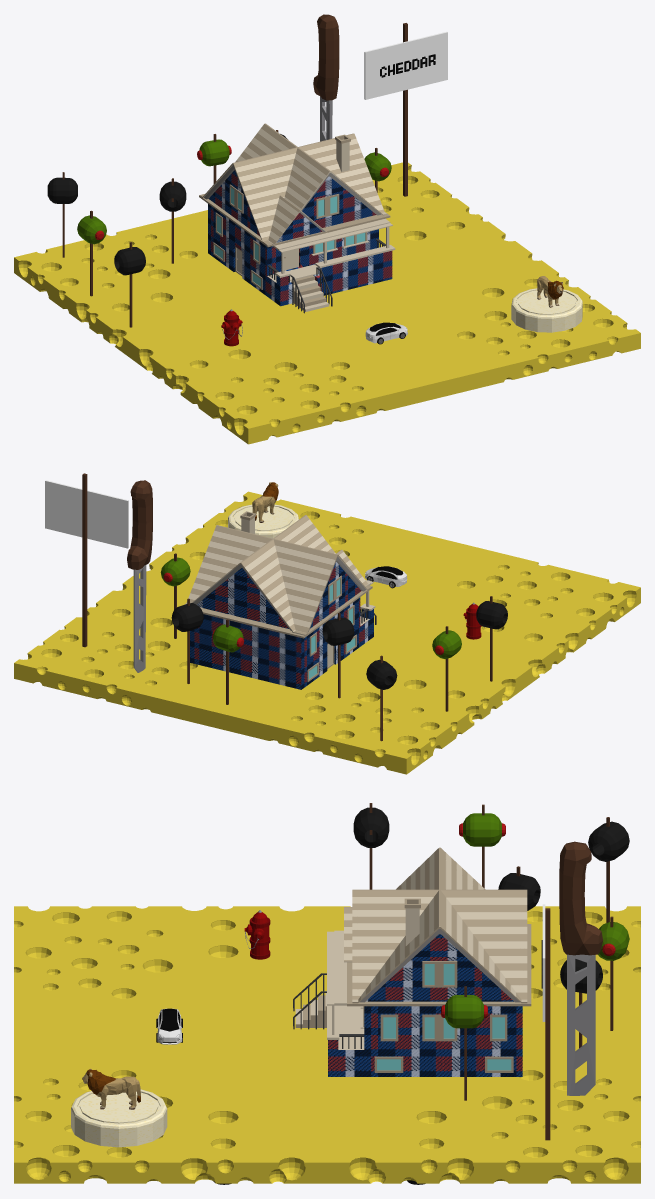
3 renders of one model, top to bottom at view 1: azimuth 30°, elevation 25°; view 2: azimuth 150°, elevation 25°; view 3: azimuth 270°, elevation 25°, orthographic. The views are drawn at different scales.
Parts seen in each view (by area): view 1: Cube.022, Cube.171, Cube.023, Cylinder.016, Cube.024, Sphere.017, Sphere.016, Sphere.020, Sphere.018, Sphere.022, VEHICLES_TESLA, Sphere.019; view 2: Cube.022, Cube.171, Cube.023, Cube.024, Cylinder.016, Sphere.017, Sphere.020, Sphere.021, Sphere.016, Sphere.018, Sphere.022, Sphere.019 (+3 smaller); view 3: Cube.022, Cube.171, Cube.024, Cylinder.016, Cube.023, Sphere.019, Sphere.016, Sphere.018, Sphere.017, ANIMAL_LEON, Sphere.022, OBJRANDOM_FIRE_HYDRANT (+3 smaller).
Boxes of the visible parts, x1,y1,x2,y2 form: Cube.022: (14, 162, 640, 444); Cube.171: (199, 123, 395, 313); Cube.023: (364, 23, 447, 196); Cylinder.016: (511, 288, 582, 332); Cube.024: (313, 14, 339, 141); Sphere.017: (114, 242, 145, 327); Sphere.016: (47, 172, 77, 257); Sphere.020: (159, 178, 186, 263); Sphere.018: (77, 210, 106, 296); Sphere.022: (197, 134, 231, 183); VEHICLES_TESLA: (365, 322, 407, 344); Sphere.019: (364, 148, 391, 192); Cube.022: (14, 491, 640, 774); Cube.171: (184, 511, 376, 689); Cube.023: (45, 473, 128, 647); Cube.024: (127, 480, 152, 672); Cylinder.016: (228, 504, 298, 538); Sphere.017: (476, 596, 507, 681); Sphere.020: (322, 612, 354, 698); Sphere.021: (171, 598, 203, 683); Sphere.016: (366, 655, 397, 741); Sphere.018: (432, 626, 461, 711); Sphere.022: (212, 619, 244, 704); Sphere.019: (160, 553, 190, 638); Cube.022: (14, 906, 640, 1183); Cube.171: (293, 847, 531, 1076); Cube.024: (559, 841, 602, 1095); Cylinder.016: (71, 1089, 167, 1147); Cube.023: (541, 904, 550, 1140); Sphere.019: (441, 986, 487, 1100); Sphere.016: (588, 817, 629, 922); Sphere.018: (459, 804, 505, 887); Sphere.017: (353, 803, 389, 889); ANIMAL_LEON: (82, 1068, 140, 1109); Sphere.022: (598, 916, 629, 1030); OBJRANDOM_FIRE_HYDRANT: (244, 910, 270, 959).
Bounding box in the file's own units: 3917 × 1985 × 4000.
35 materials, 4 textured.
